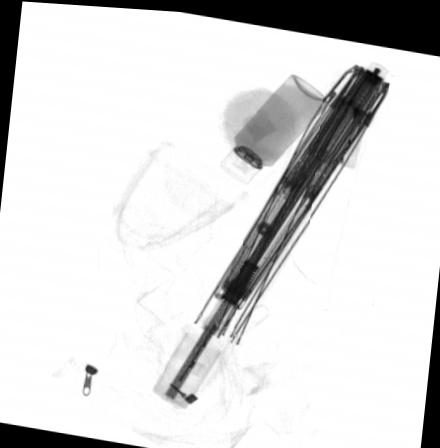Lighter: (150, 327, 223, 407)
Sprayer: (218, 68, 326, 180)
